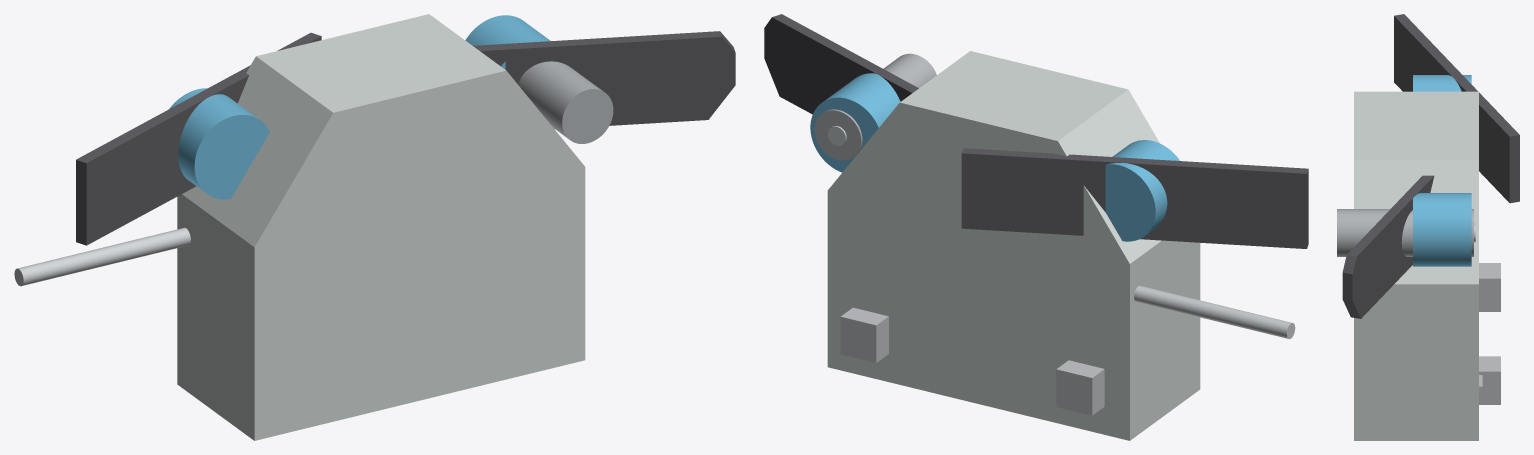
Rendered from rbmk.glb.
The picture shows the model from 3 angles, left to right: view 1: azimuth 30°, elevation 25°; view 2: azimuth 150°, elevation 25°; view 3: azimuth 270°, elevation 25°; orthographic projection. The views are drawn at different scales.
Parts seen in each view (by area): view 1: chassis, weapon, bar2, motor_r, dt_hubw_weapon, dt_shaft_bar2, motor_l; view 2: chassis, bar2, weapon, motor_r, motor_l, dt_shaft_bar2, dt_hubw_weapon, skid_r, skid_l; view 3: chassis, bar2, weapon, motor_l, dt_hubw_weapon, skid_l, skid_r, motor_r.
Boxes of the visible parts, left/top/right/bottom form: chassis: left=177, top=14, right=585, bottom=440; weapon: left=473, top=31, right=735, bottom=125; bar2: left=76, top=32, right=321, bottom=245; motor_r: left=169, top=88, right=269, bottom=199; dt_hubw_weapon: left=518, top=61, right=613, bottom=143; dt_shaft_bar2: left=14, top=227, right=190, bottom=286; motor_l: left=465, top=15, right=550, bottom=69; chassis: left=827, top=51, right=1200, bottom=440; bar2: left=961, top=148, right=1308, bottom=248; weapon: left=764, top=14, right=918, bottom=114; motor_r: left=1105, top=140, right=1179, bottom=241; motor_l: left=810, top=73, right=900, bottom=172; dt_shaft_bar2: left=1134, top=285, right=1295, bottom=339; dt_hubw_weapon: left=814, top=53, right=936, bottom=160; skid_r: left=1056, top=360, right=1104, bottom=415; skid_l: left=840, top=307, right=888, bottom=362; chassis: left=1354, top=91, right=1478, bottom=440; bar2: left=1394, top=14, right=1519, bottom=203; weapon: left=1342, top=175, right=1434, bottom=318; motor_l: left=1413, top=193, right=1471, bottom=266; dt_hubw_weapon: left=1337, top=209, right=1473, bottom=256; skid_l: left=1479, top=356, right=1500, bottom=404; skid_r: left=1479, top=263, right=1500, bottom=311; motor_r: left=1413, top=75, right=1471, bottom=91.
Bounding box in the file's own units: 164 × 75 × 49.75.
